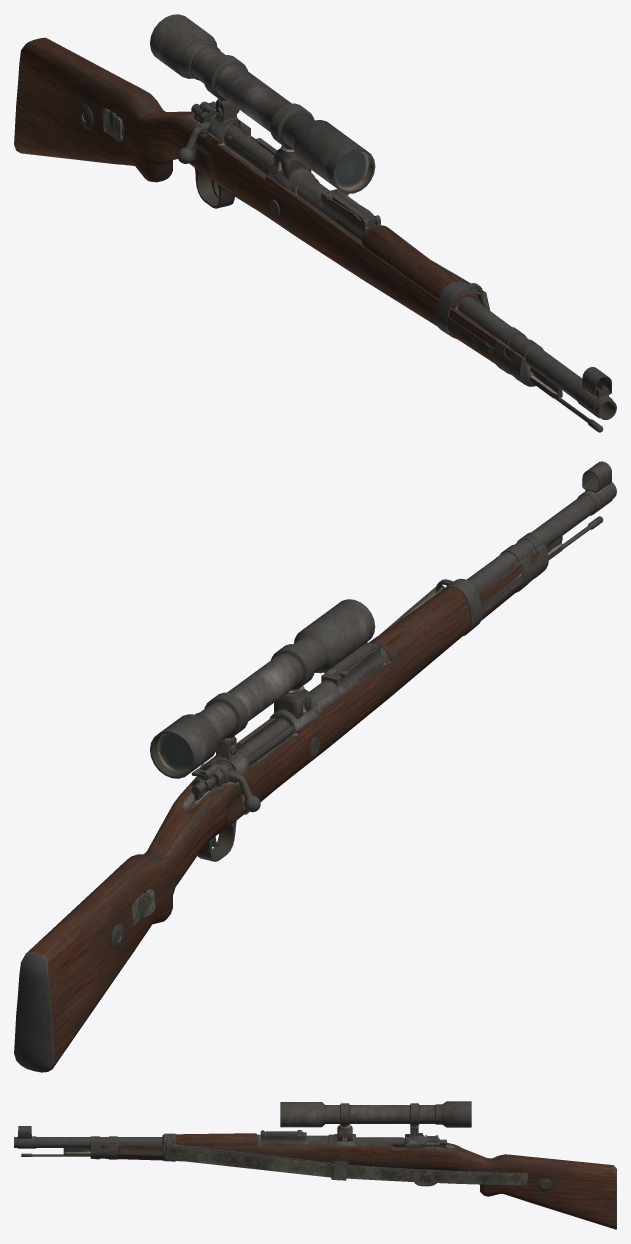
Rendered from kar98k_web.glb.
3 views of the same model, one above another, from view 1: azimuth 30°, elevation 25°; view 2: azimuth 150°, elevation 25°; view 3: azimuth 270°, elevation 25° (orthographic). The views are drawn at different scales.
Visible parts, largest first — view 1: Kar98k_Body_UV_Kar98k_0, Kar98k_Scope_UV_Kar98k_Scope_0, Kar98k_Bolt_2_UV_Kar98k_0, Kar98k_Belt; view 2: Kar98k_Body_UV_Kar98k_0, Kar98k_Scope_UV_Kar98k_Scope_0, Kar98k_Bolt_2_UV_Kar98k_0, Kar98k_Bolt_1, Kar98k_Belt; view 3: Kar98k_Body_UV_Kar98k_0, Kar98k_Belt, Kar98k_Scope_UV_Kar98k_Scope_0, Kar98k_Bolt_2_UV_Kar98k_0, Kar98k_Bolt_1.
Boxes of the visible parts, x1,y1,x2,y2 form: Kar98k_Body_UV_Kar98k_0: (14, 37, 616, 432); Kar98k_Scope_UV_Kar98k_Scope_0: (150, 14, 375, 193); Kar98k_Bolt_2_UV_Kar98k_0: (177, 114, 274, 175); Kar98k_Belt: (105, 108, 489, 310); Kar98k_Body_UV_Kar98k_0: (14, 461, 616, 1072); Kar98k_Scope_UV_Kar98k_Scope_0: (150, 599, 375, 778); Kar98k_Bolt_2_UV_Kar98k_0: (216, 718, 293, 812); Kar98k_Bolt_1: (191, 763, 228, 799); Kar98k_Belt: (132, 585, 444, 925); Kar98k_Body_UV_Kar98k_0: (14, 1126, 616, 1229); Kar98k_Belt: (164, 1144, 528, 1185); Kar98k_Scope_UV_Kar98k_Scope_0: (280, 1101, 471, 1140); Kar98k_Bolt_2_UV_Kar98k_0: (356, 1135, 425, 1146); Kar98k_Bolt_1: (425, 1135, 446, 1147).
Bounding box in the file's own units: 8.73 × 25.42 × 111.
2 materials, 2 textured.
